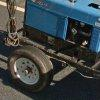Tractor: (13, 0, 100, 100)
